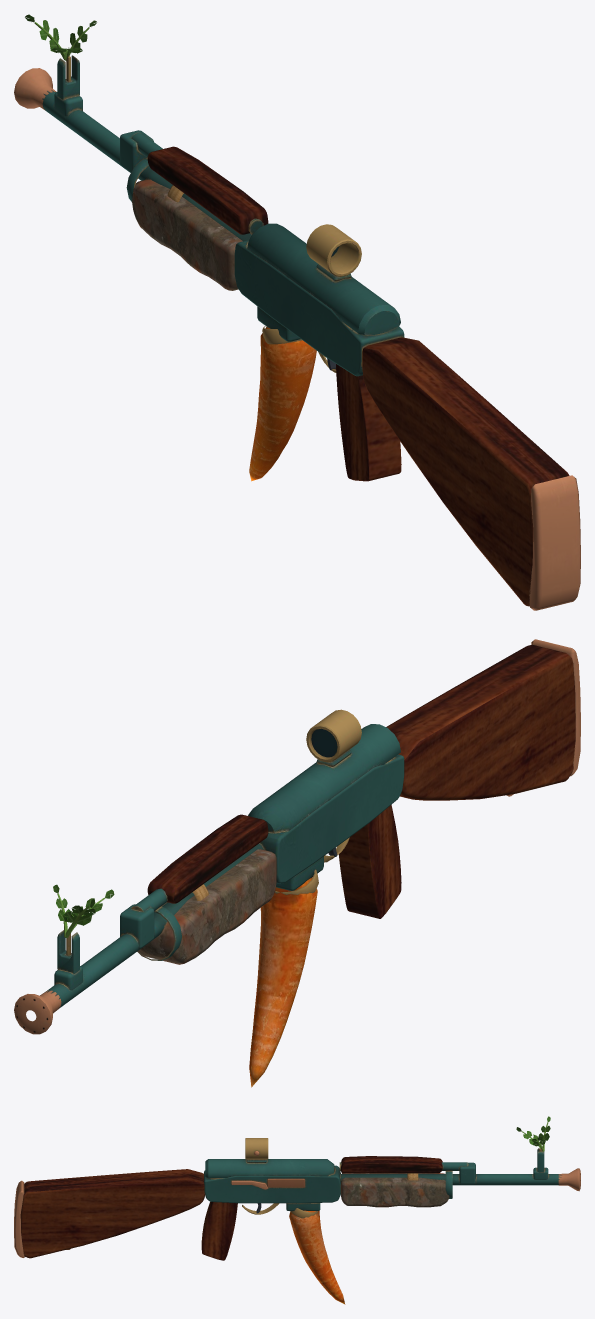
Rendered from carrot_rifle.glb.
3 views of the same model, one above another, from view 1: azimuth 30°, elevation 25°; view 2: azimuth 150°, elevation 25°; view 3: azimuth 270°, elevation 25° (orthographic). The views are drawn at different scales.
Visible parts, largest first — view 1: carrot_rifle; view 2: carrot_rifle; view 3: carrot_rifle.
Boxes of the visible parts, bbox=[...] form: carrot_rifle: bbox=[14, 14, 580, 610]; carrot_rifle: bbox=[14, 639, 580, 1087]; carrot_rifle: bbox=[14, 1116, 580, 1304].
Bounding box in the file's own units: 0.0544 × 0.2898 × 0.8284.
1 material, 1 textured.
